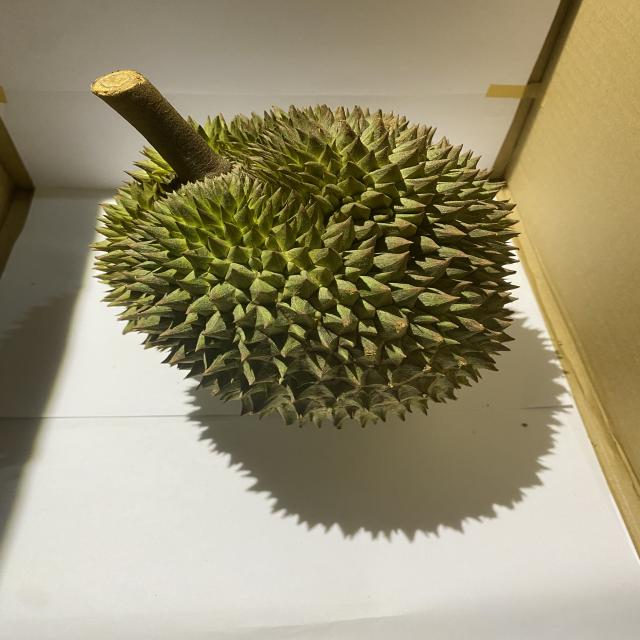immature: (88, 102, 523, 430)
